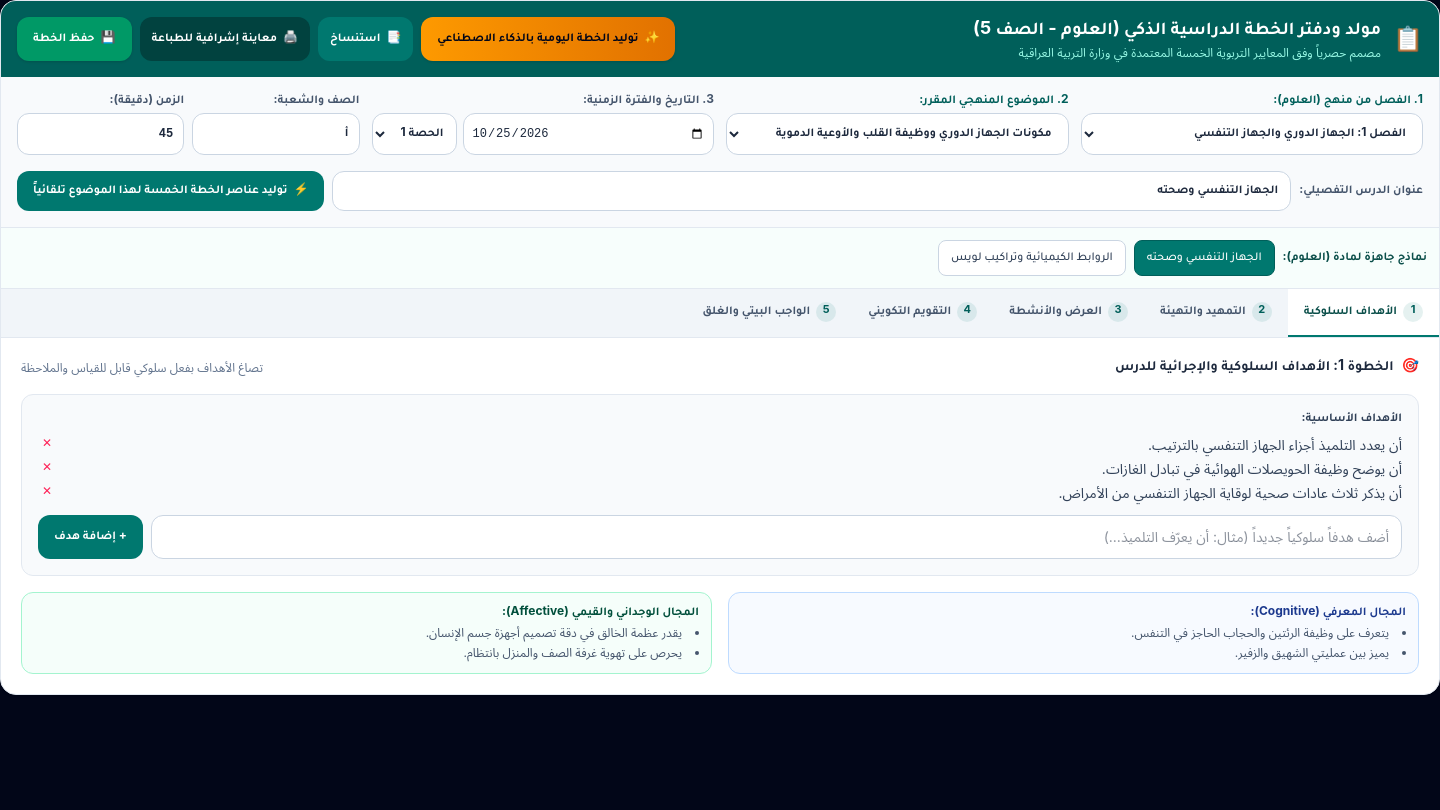
Test: Milestone 6: Curriculum & Lesson Plans Studio › 1. 5-Step Ministerial Lesson Plan Editor › opens supervisory inspection modal with school name and signature area
Click the button "🖨️ معاينة إشرافية للطباعة" at (225, 39), box x1=140 y1=17 x2=310 y2=61
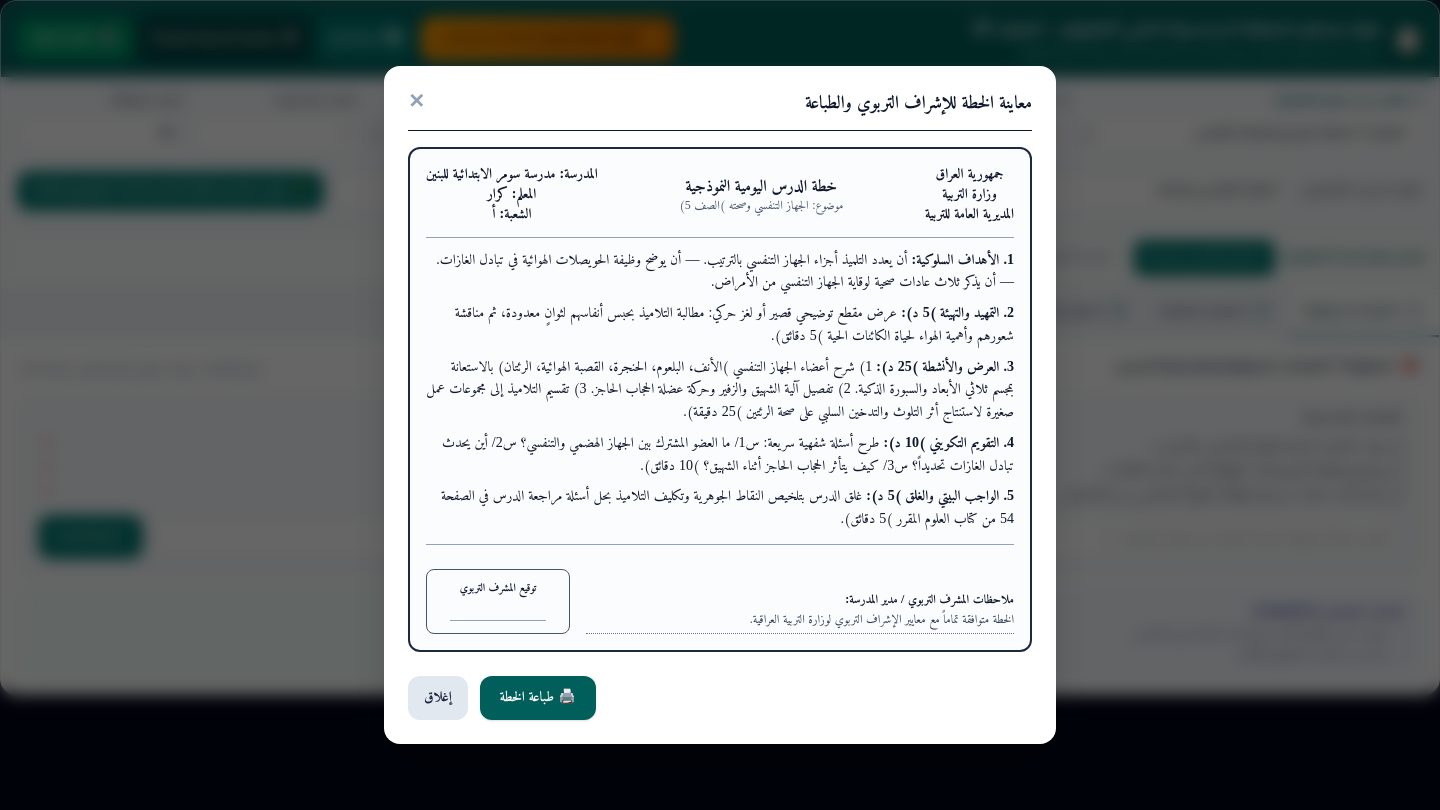
Now the text "جمهورية العراق" is shown, box x1=936 y1=162 x2=1003 y2=186
Now the text "توقيع المشرف التربوي" is shown, box x1=460 y1=579 x2=536 y2=598
